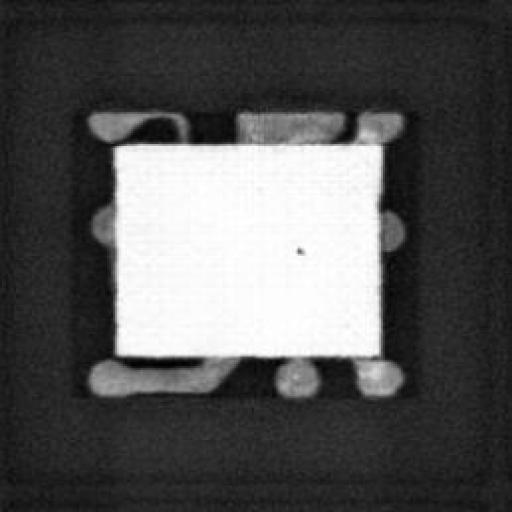DIE_INK: (290, 241, 308, 254)
